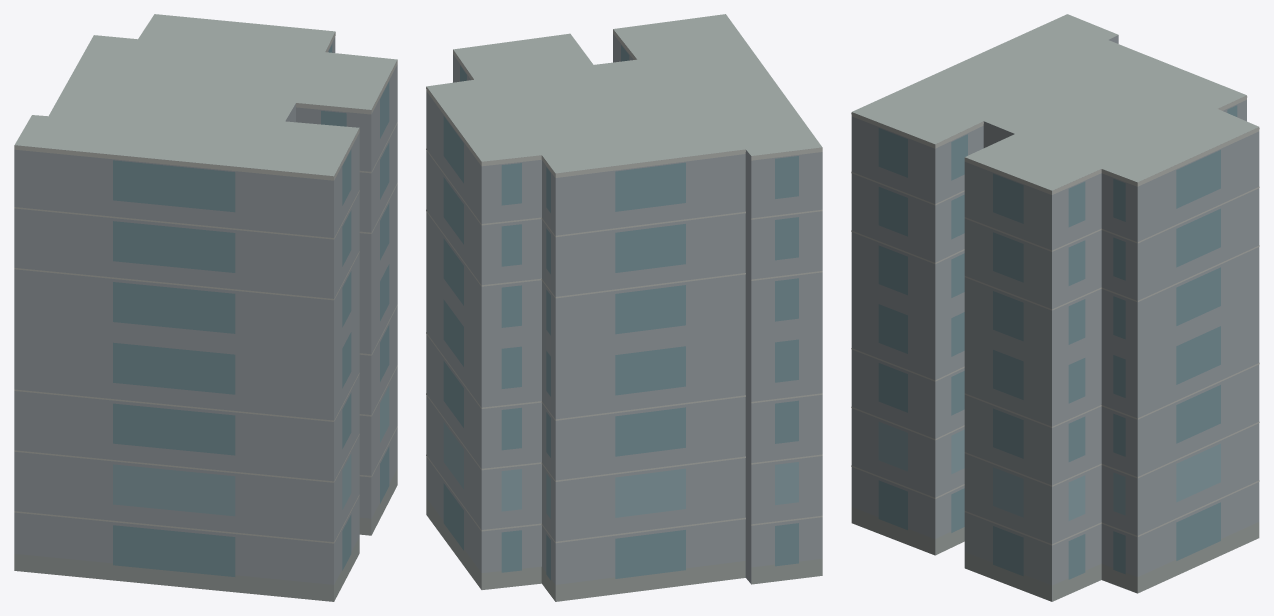
Rendered from survey-upis-32857122.glb.
3 views of the same model, side by side, from view 1: azimuth 30°, elevation 25°; view 2: azimuth 150°, elevation 25°; view 3: azimuth 270°, elevation 25° (orthographic). The views are drawn at different scales.
Parts seen in each view (by area): view 1: survey-upis-32857122.tmp; view 2: survey-upis-32857122.tmp; view 3: survey-upis-32857122.tmp.
Part boxes in pixels (x1=…): survey-upis-32857122.tmp: x1=14, y1=14, x2=397, y2=601; survey-upis-32857122.tmp: x1=426, y1=14, x2=822, y2=601; survey-upis-32857122.tmp: x1=851, y1=14, x2=1259, y2=601.
Size of the model in its own units: 21.04 by 22.8 by 20.51.
